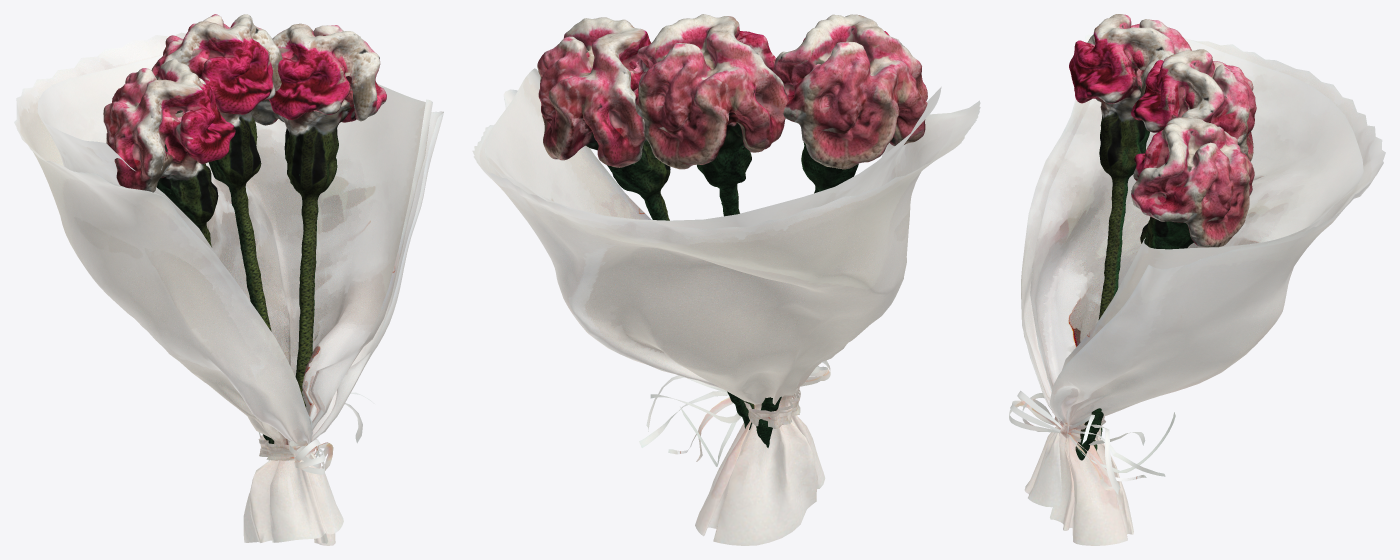
Rendered from carnation_bouquet.glb.
3 views of the same model, side by side, from view 1: azimuth 30°, elevation 25°; view 2: azimuth 150°, elevation 25°; view 3: azimuth 270°, elevation 25° (orthographic). The views are drawn at different scales.
Visible parts, largest first — view 1: outer, inner, Carnation_Petals.005, Carnation_Petals.006, Carnation_Petals.007, Carnation _Stem.006, Carnation _Stem.007, Carnation _Stem.005, ribbon, parcel_knot; view 2: outer, Carnation_Petals.007, Carnation_Petals.005, inner, Carnation_Petals.006, Carnation _Stem.006, Carnation _Stem.007, ribbon, Carnation _Stem.005, parcel_knot; view 3: outer, inner, Carnation_Petals.006, Carnation_Petals.007, Carnation_Petals.005, Carnation _Stem.005, ribbon, Carnation _Stem.006.
Boxes of the visible parts, x1=… form: outer: x1=14, y1=32, x2=443, y2=545; inner: x1=37, y1=55, x2=432, y2=444; Carnation_Petals.005: x1=103, y1=59, x2=235, y2=192; Carnation_Petals.006: x1=251, y1=23, x2=386, y2=345; Carnation_Petals.007: x1=151, y1=14, x2=282, y2=321; Carnation _Stem.006: x1=284, y1=121, x2=340, y2=407; Carnation _Stem.007: x1=208, y1=117, x2=271, y2=331; Carnation _Stem.005: x1=156, y1=144, x2=274, y2=443; ribbon: x1=258, y1=392, x2=374, y2=474; parcel_knot: x1=258, y1=435, x2=307, y2=460; outer: x1=472, y1=89, x2=980, y2=545; Carnation_Petals.007: x1=633, y1=14, x2=788, y2=169; Carnation_Petals.005: x1=772, y1=14, x2=927, y2=169; inner: x1=484, y1=68, x2=941, y2=229; Carnation_Petals.006: x1=537, y1=17, x2=650, y2=167; Carnation _Stem.006: x1=585, y1=136, x2=754, y2=429; Carnation _Stem.007: x1=697, y1=123, x2=751, y2=216; ribbon: x1=639, y1=360, x2=830, y2=466; Carnation _Stem.005: x1=756, y1=142, x2=858, y2=447; parcel_knot: x1=744, y1=387, x2=800, y2=428; outer: x1=1021, y1=34, x2=1385, y2=545; inner: x1=1030, y1=38, x2=1363, y2=391; Carnation_Petals.006: x1=1131, y1=117, x2=1254, y2=247; Carnation_Petals.007: x1=1131, y1=49, x2=1256, y2=161; Carnation_Petals.005: x1=1069, y1=14, x2=1191, y2=310; Carnation _Stem.005: x1=1093, y1=91, x2=1149, y2=450; ribbon: x1=1009, y1=390, x2=1175, y2=494; Carnation _Stem.006: x1=1075, y1=217, x2=1193, y2=460.
Size of the model in its own units: 1.8 by 2.1 by 1.55.
Materials: 6 (6 with a texture image).
